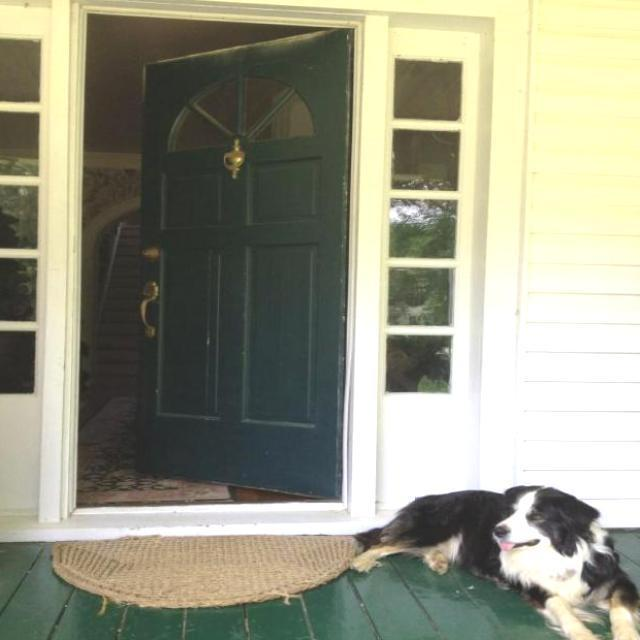door: (136, 28, 351, 501)
